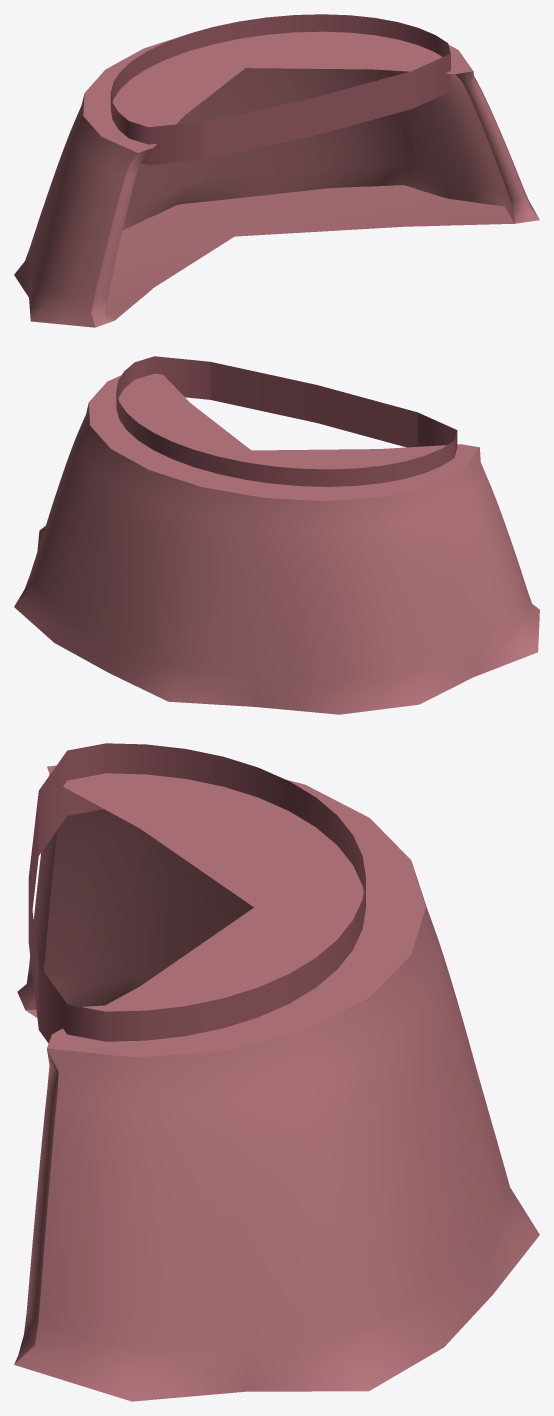
Rendered from cape_short.glb.
3 renders of one model, top to bottom at view 1: azimuth 30°, elevation 25°; view 2: azimuth 150°, elevation 25°; view 3: azimuth 270°, elevation 25°, orthographic. The views are drawn at different scales.
Visible parts, largest first — view 1: cape_short; view 2: cape_short; view 3: cape_short.
Part boxes in pixels (x1,y1,x2,y2): cape_short: [14, 14, 539, 327]; cape_short: [14, 356, 539, 714]; cape_short: [14, 743, 539, 1401].
Size of the model in its own units: 0.6575 by 0.262 by 0.3495.
